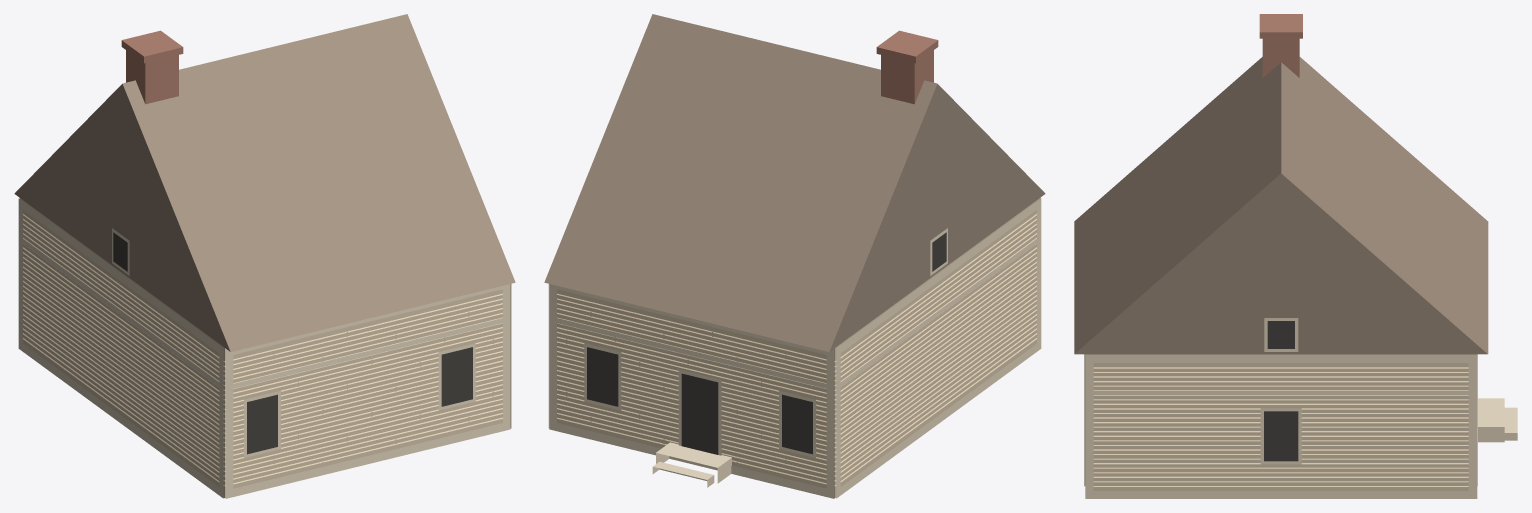
Rendered from recon_1835_south_d6_020__inferred_1835.glb.
The picture shows the model from 3 angles, left to right: view 1: azimuth 30°, elevation 25°; view 2: azimuth 150°, elevation 25°; view 3: azimuth 270°, elevation 25°; orthographic projection. The views are drawn at different scales.
Parts seen in each view (by area): view 1: recon_1835_south_d6_020__inferred_1835; view 2: recon_1835_south_d6_020__inferred_1835; view 3: recon_1835_south_d6_020__inferred_1835.
Boxes of the visible parts, x1,y1,x2,y2 form: recon_1835_south_d6_020__inferred_1835: (14,14,515,498); recon_1835_south_d6_020__inferred_1835: (544,14,1045,498); recon_1835_south_d6_020__inferred_1835: (1074,14,1517,498).
Size of the model in its own units: 7.23 by 8.91 by 10.06.
